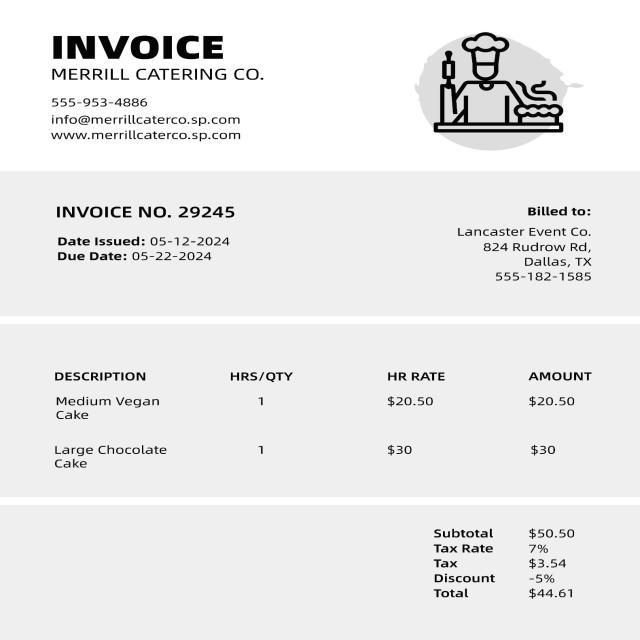ROI: (19, 358, 617, 481), (390, 18, 582, 154), (442, 199, 609, 291), (412, 528, 610, 604), (53, 200, 245, 267), (46, 92, 248, 154), (35, 25, 244, 63), (34, 66, 274, 86)
